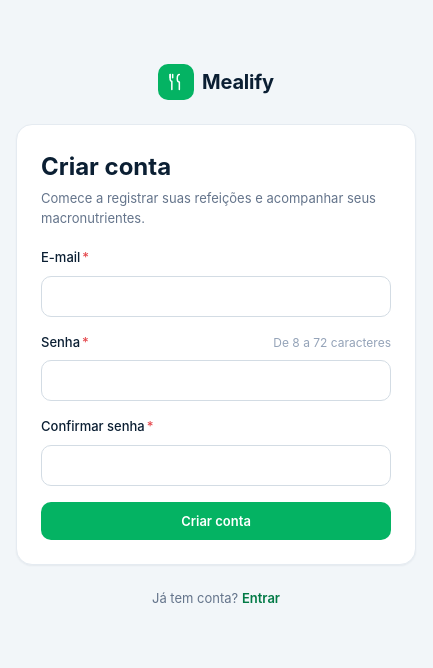
Scenario: RegisterPage › shows why the account could not be created
Type "ana@example.com" into the field labelled "E-mail*".
click(216, 296); type("ana@example.com")  # box left=41, top=276, right=391, bottom=316
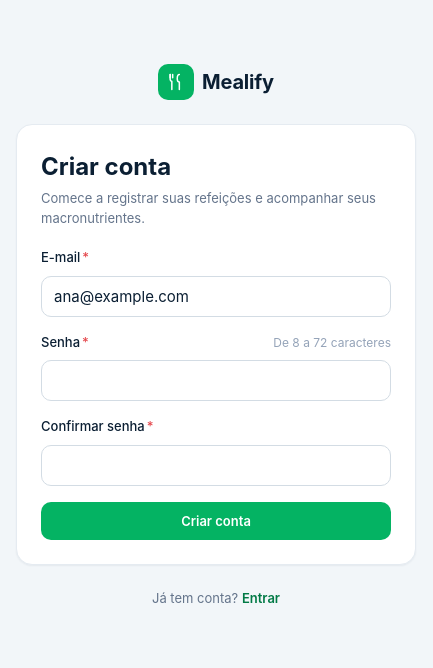
Type "secret pass" into the password field labelled "Senha*".
click(216, 380); type("secret pass")  # box left=41, top=360, right=391, bottom=401
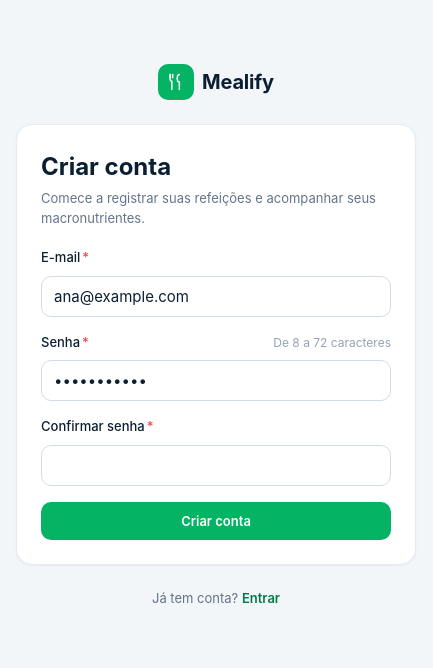
Type "secret pass" into the password field labelled "Confirmar senha*".
click(216, 465); type("secret pass")  # box left=41, top=444, right=391, bottom=486
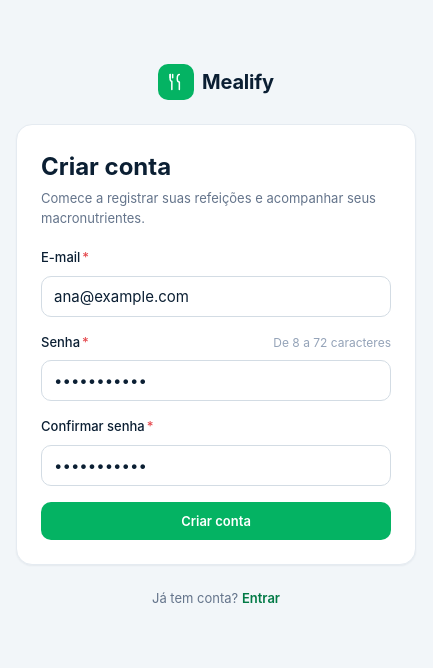
Click the button "Criar conta".
click(216, 520)  # box left=41, top=502, right=391, bottom=540
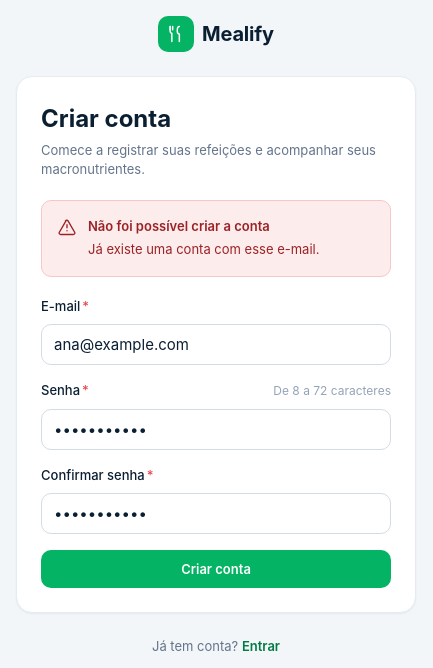
Expected: the text "Já existe uma conta com esse e-mail." is shown, left=88, top=241, right=319, bottom=257
